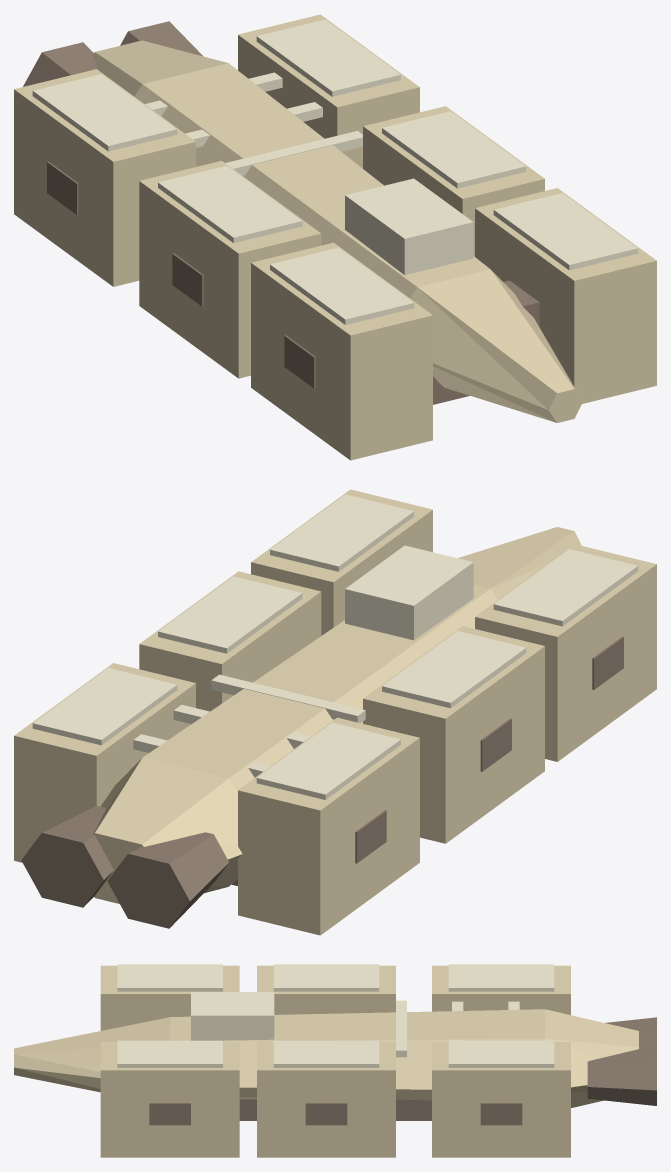
3 renders of one model, top to bottom at view 1: azimuth 30°, elevation 25°; view 2: azimuth 150°, elevation 25°; view 3: azimuth 270°, elevation 25°, orthographic. The views are drawn at different scales.
Size of the model in its own units: 3.53 by 1.58 by 9.07.
